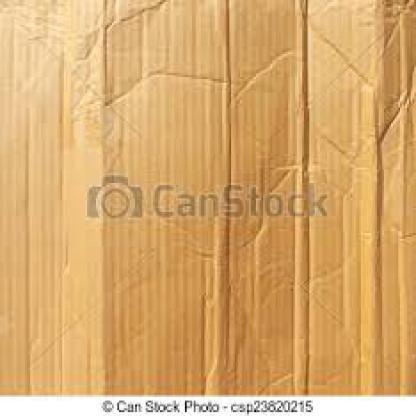CARDBOARD: (0, 0, 414, 393)
